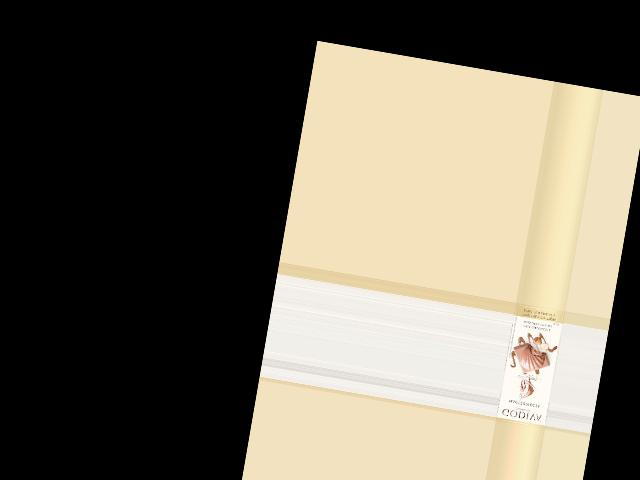chocolate: (496, 303, 565, 429)
